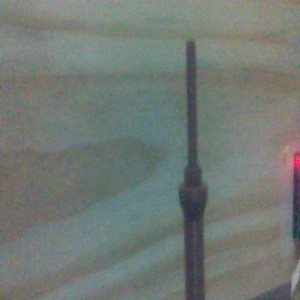obeng: (177, 39, 210, 300)
